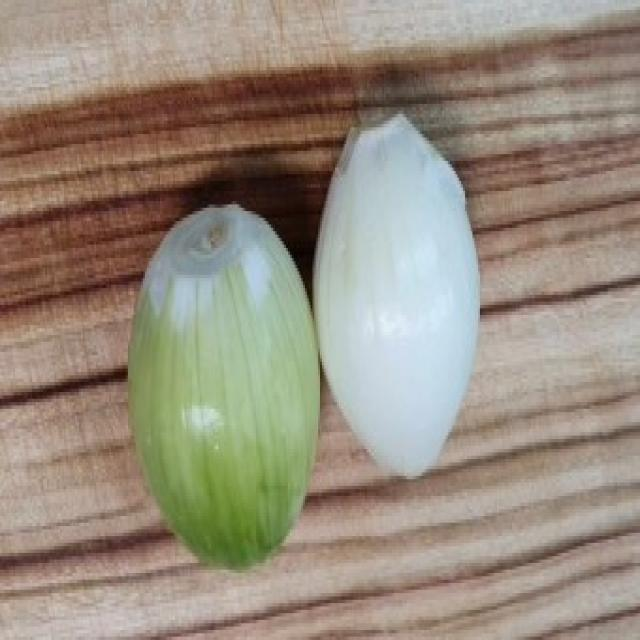onion: (114, 190, 315, 592), (319, 103, 483, 496)
